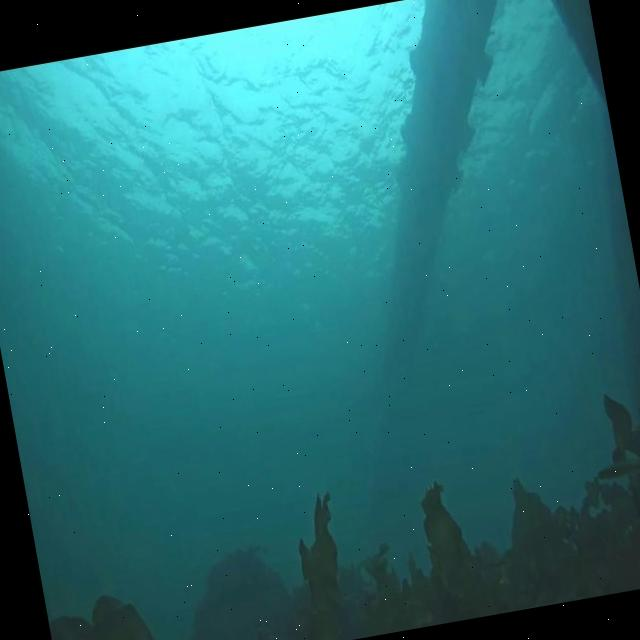fish: (592, 453, 640, 482)
